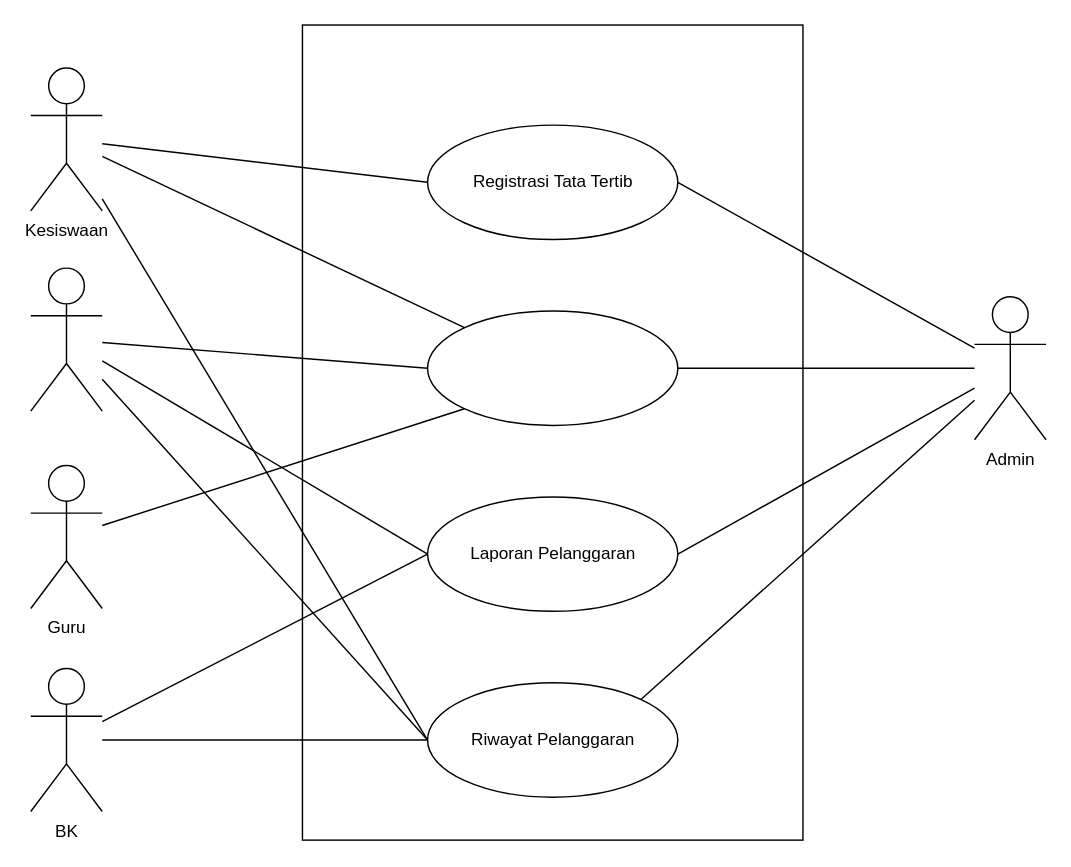
The diagram is 1071 pixels wide and 867 high, and some of its shapes have lost their labels. The box of each missing label's shape, as (x1, y1, x2, y2) in pixels:
Isi Catatan Pelanggaran: (426, 310, 678, 425)
Sistem Poin Siswa (SIPOS): (301, 24, 803, 840)
Walikelas: (29, 267, 102, 411)
